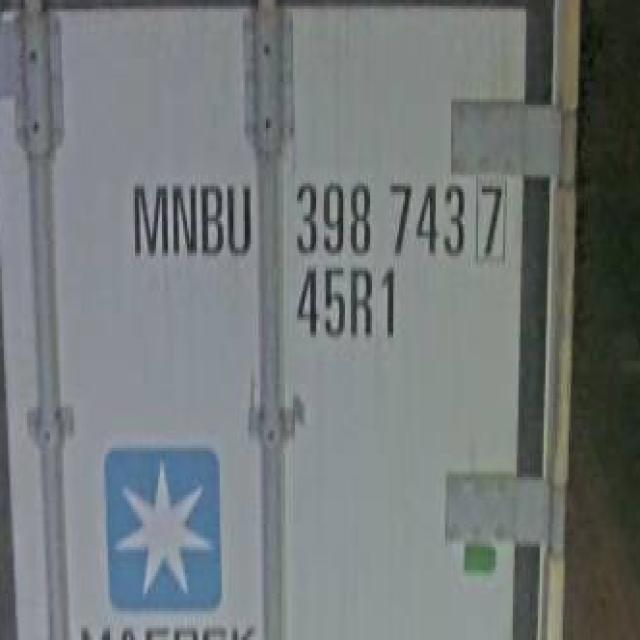dv: (469, 176, 515, 262)
owner: (121, 167, 258, 263)
serial: (290, 175, 467, 258)
size: (290, 261, 404, 346)
